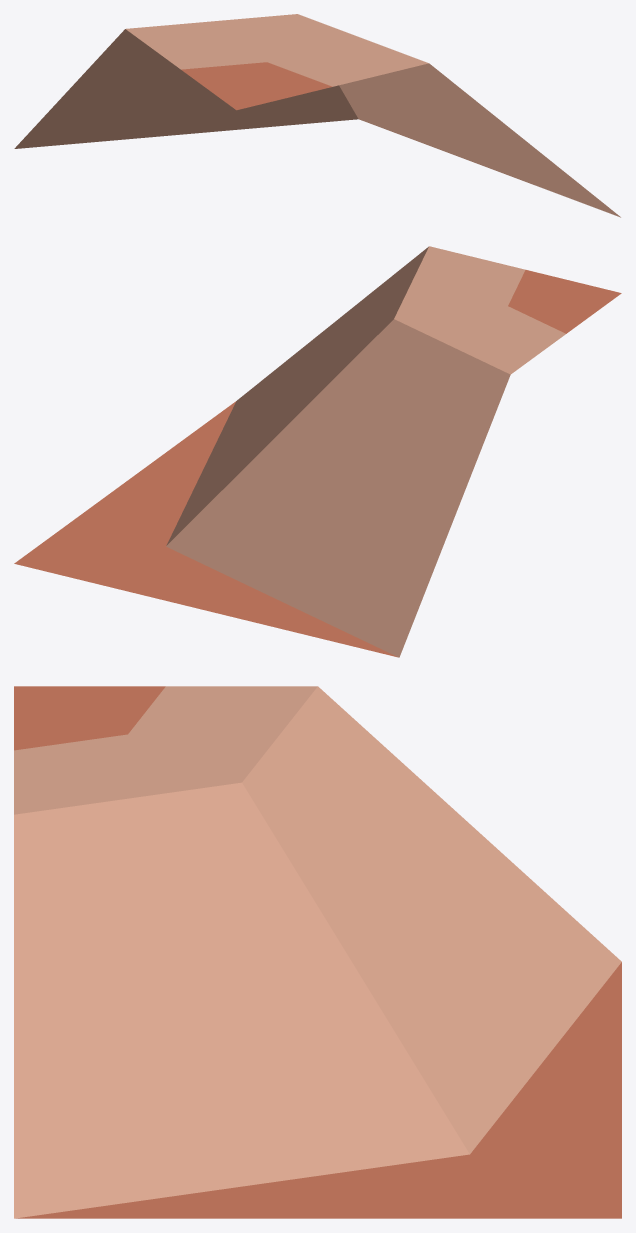
File: terrain_sideCorner.glb
3 views of the same model, one above another, from view 1: azimuth 30°, elevation 25°; view 2: azimuth 150°, elevation 25°; view 3: azimuth 270°, elevation 25° (orthographic). The views are drawn at different scales.
Visible parts, largest first — view 1: terrain_sideCorner; view 2: terrain_sideCorner; view 3: terrain_sideCorner.
Part boxes in pixels (x1,y1,x2,y2): terrain_sideCorner: [14, 14, 620, 217]; terrain_sideCorner: [14, 246, 621, 657]; terrain_sideCorner: [14, 686, 621, 1218].
Bounding box in the file's own units: 1 × 0.5 × 1.
